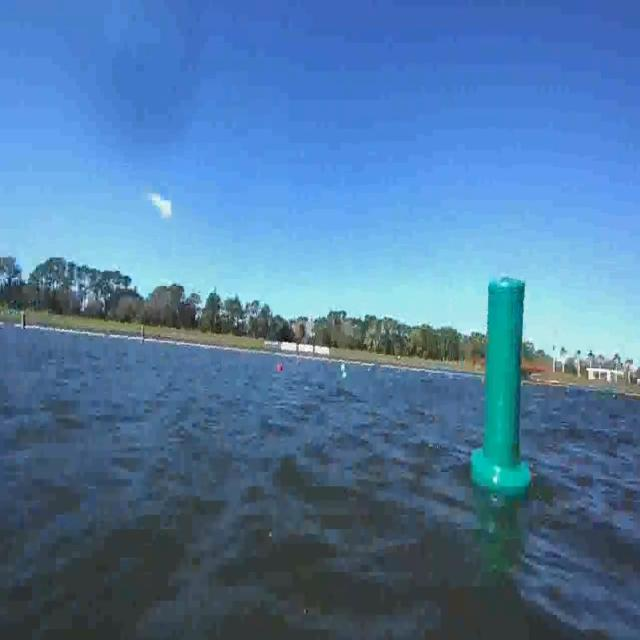green-column-buoy: (472, 276, 532, 494)
red-buoy: (277, 359, 284, 375)
